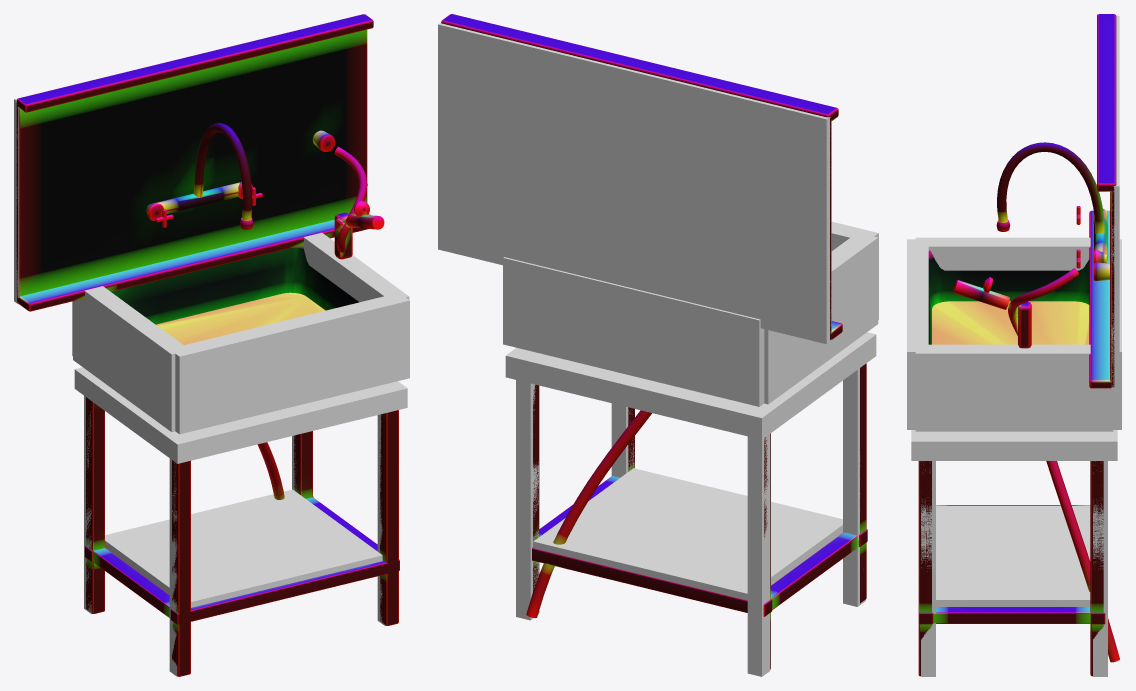
Rendered from prop_wash_tub.fbx.
3 views of the same model, side by side, from view 1: azimuth 30°, elevation 25°; view 2: azimuth 150°, elevation 25°; view 3: azimuth 270°, elevation 25° (orthographic). The views are drawn at different scales.
Parts seen in each view (by area): view 1: prop_wash_tub, COL_3, COL_1, COL_0, COL_5, COL_6, COL_7, COL_11, COL_9, COL_8; view 2: COL_11, COL_4, COL_1, prop_wash_tub, COL_0, COL_5, COL_8, COL_10, COL_7, COL_9, COL_3; view 3: prop_wash_tub, COL_6, COL_1, COL_0, COL_5, COL_3, COL_11, COL_10, COL_9, COL_4.
Boxes of the visible parts, <box> form: prop_wash_tub: <box>16,14,399,676</box>; COL_3: <box>169,293,409,434</box>; COL_1: <box>105,489,382,607</box>; COL_0: <box>74,367,407,463</box>; COL_5: <box>73,286,184,431</box>; COL_6: <box>303,232,409,302</box>; COL_7: <box>169,458,177,676</box>; COL_11: <box>14,14,362,304</box>; COL_9: <box>377,414,385,625</box>; COL_8: <box>84,396,91,613</box>; COL_11: <box>438,22,831,344</box>; COL_4: <box>503,257,764,406</box>; COL_1: <box>533,468,842,600</box>; prop_wash_tub: <box>441,14,867,669</box>; COL_0: <box>505,332,876,439</box>; COL_5: <box>764,235,878,404</box>; COL_8: <box>747,434,770,676</box>; COL_10: <box>516,380,538,620</box>; COL_7: <box>843,368,865,606</box>; COL_9: <box>611,403,634,477</box>; COL_3: <box>831,221,878,319</box>; prop_wash_tub: <box>918,14,1119,676</box>; COL_6: <box>915,344,1113,431</box>; COL_1: <box>936,505,1090,606</box>; COL_0: <box>911,430,1117,460</box>; COL_5: <box>915,237,1090,270</box>; COL_3: <box>907,239,928,429</box>; COL_11: <box>1111,15,1119,388</box>; COL_10: <box>1093,461,1107,676</box>; COL_9: <box>921,461,935,676</box>; COL_4: <box>1113,239,1121,429</box>.
Size of the model in its own units: 0.94 by 1.35 by 0.5.
